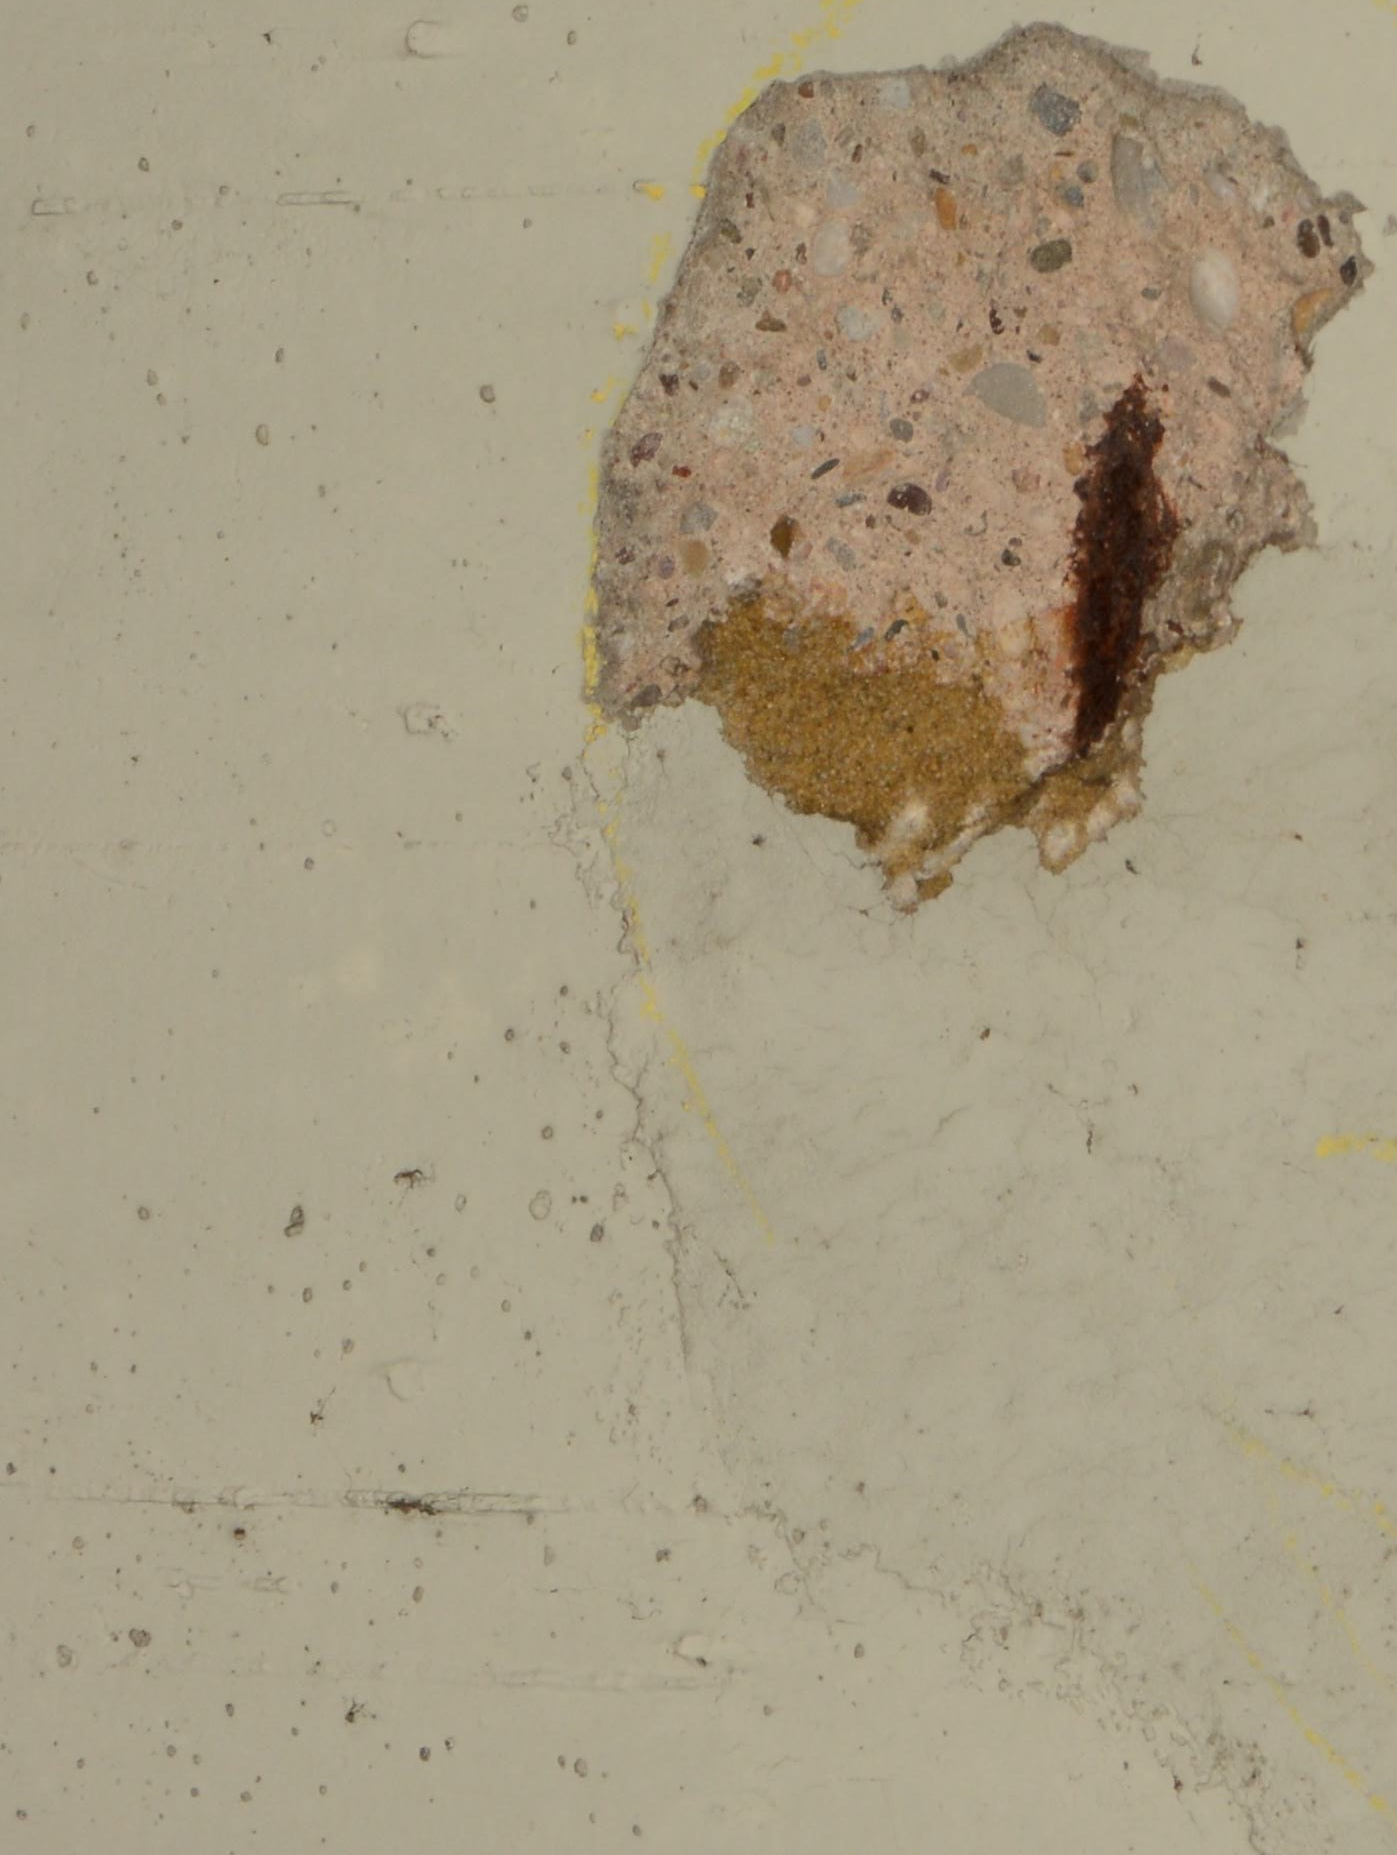Exposed reinforcement: (1064, 376, 1180, 765)
Spalling: (588, 21, 1376, 914)
